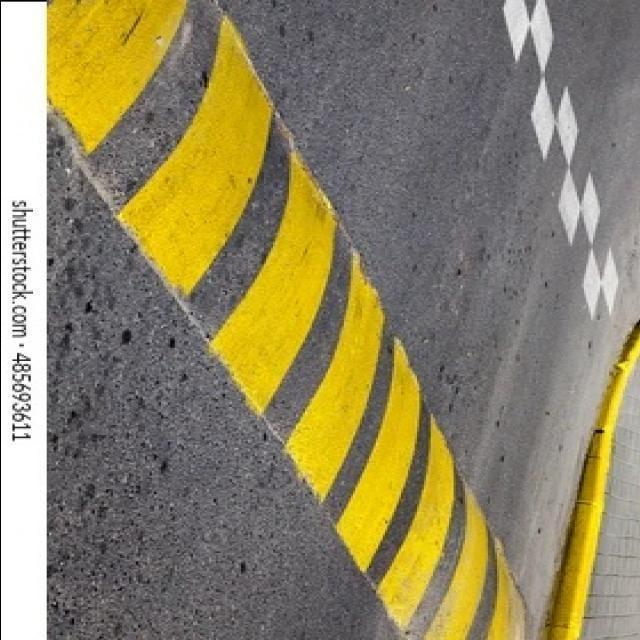speedbreaker: (85, 0, 534, 640)
